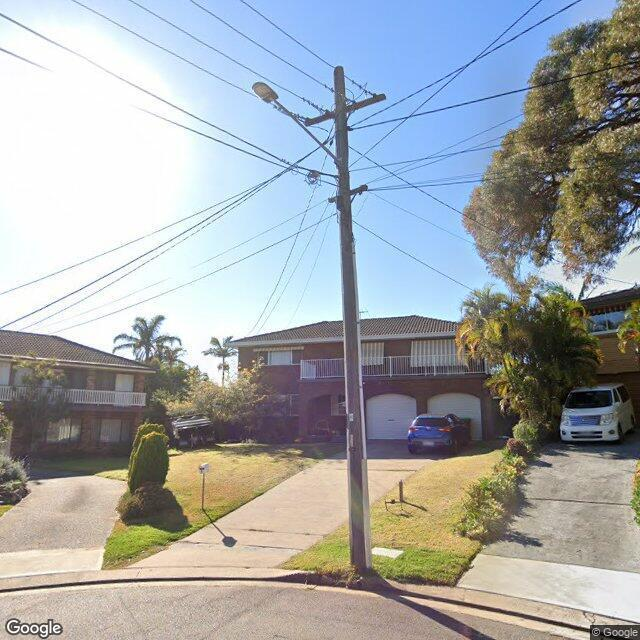crossarm: (304, 94, 386, 126), (327, 183, 369, 202)
streetlight: (252, 82, 342, 166)
timber-pole: (334, 66, 374, 570)
